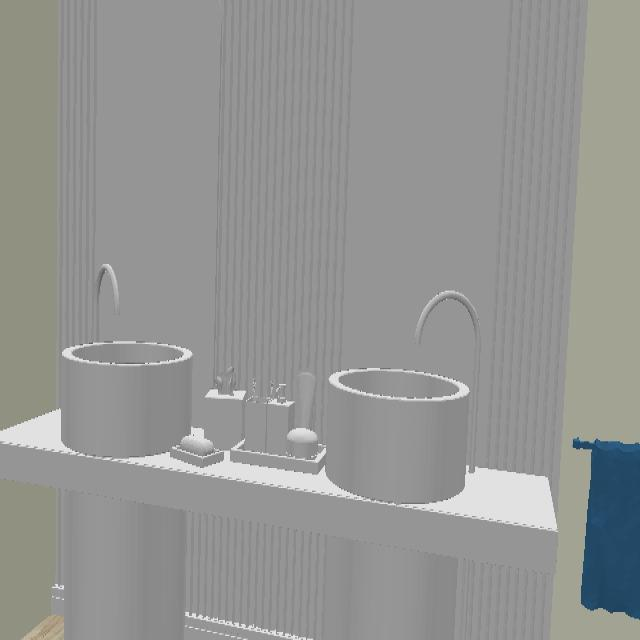washbasin: (324, 365, 456, 505), (57, 340, 192, 460)
